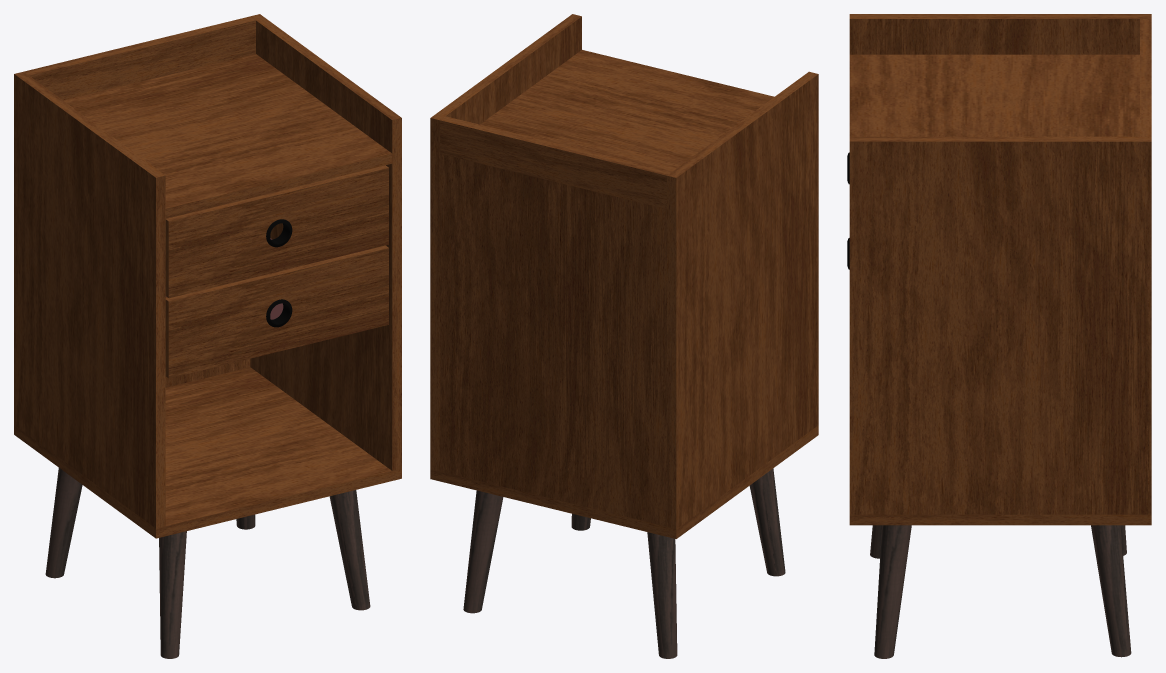
File: criadomudo001.glb
The picture shows the model from 3 angles, left to right: view 1: azimuth 30°, elevation 25°; view 2: azimuth 150°, elevation 25°; view 3: azimuth 270°, elevation 25°; orthographic projection. The views are drawn at different scales.
Parts seen in each view (by area): view 1: Componente4\Sólido, Componente3\Sólido, Componente2\Sólido, Componente5\Sólido, Componente7\Sólido (2), Componente7\Sólido, Componente6\Sólido, Pattern (Padrão)\Componente8\Sólido (3), Pattern (Padrão)\Componente8\Sólido (4), Pattern (Padrão)\Componente8\Sólido (2), Componente6\Superfície; view 2: Componente6\Superfície, Componente4\Sólido, Componente3\Sólido, Componente6\Sólido, Componente5\Sólido, Componente2\Sólido, Pattern (Padrão)\Componente8\Sólido (2), Pattern (Padrão)\Componente8\Sólido, Pattern (Padrão)\Componente8\Sólido (3); view 3: Componente5\Sólido, Componente3\Sólido, Componente4\Sólido, Componente2\Sólido, Pattern (Padrão)\Componente8\Sólido (4), Pattern (Padrão)\Componente8\Sólido, Componente6\Sólido.
Part boxes in pixels (<box>): Componente4\Sólido: <box>14,71,165,528</box>; Componente3\Sólido: <box>64,54,392,218</box>; Componente2\Sólido: <box>14,367,401,538</box>; Componente5\Sólido: <box>250,14,401,470</box>; Componente7\Sólido (2): <box>165,245,388,378</box>; Componente7\Sólido: <box>165,165,388,298</box>; Componente6\Sólido: <box>24,16,255,100</box>; Pattern (Padrão)\Componente8\Sólido (3): <box>159,531,186,658</box>; Pattern (Padrão)\Componente8\Sólido (4): <box>329,490,370,610</box>; Pattern (Padrão)\Componente8\Sólido (2): <box>45,468,82,578</box>; Componente6\Superfície: <box>165,359,250,387</box>; Componente6\Superfície: <box>440,154,666,526</box>; Componente4\Sólido: <box>667,71,818,528</box>; Componente3\Sólido: <box>480,50,774,171</box>; Componente6\Sólido: <box>440,116,671,208</box>; Componente5\Sólido: <box>430,14,581,471</box>; Componente2\Sólido: <box>430,425,818,538</box>; Pattern (Padrão)\Componente8\Sólido (2): <box>647,532,677,658</box>; Pattern (Padrão)\Componente8\Sólido: <box>463,490,503,613</box>; Pattern (Padrão)\Componente8\Sólido (3): <box>749,468,785,576</box>; Componente5\Sólido: <box>849,136,1151,514</box>; Componente3\Sólido: <box>849,54,1139,136</box>; Componente4\Sólido: <box>849,14,1151,54</box>; Componente2\Sólido: <box>849,514,1151,525</box>; Pattern (Padrão)\Componente8\Sólido (4): <box>874,525,911,658</box>; Pattern (Padrão)\Componente8\Sólido: <box>1091,525,1131,657</box>; Componente6\Sólido: <box>1140,19,1151,136</box>.
Size of the model in its own units: 0.385 by 0.74 by 0.388.
4 materials, 2 textured.
